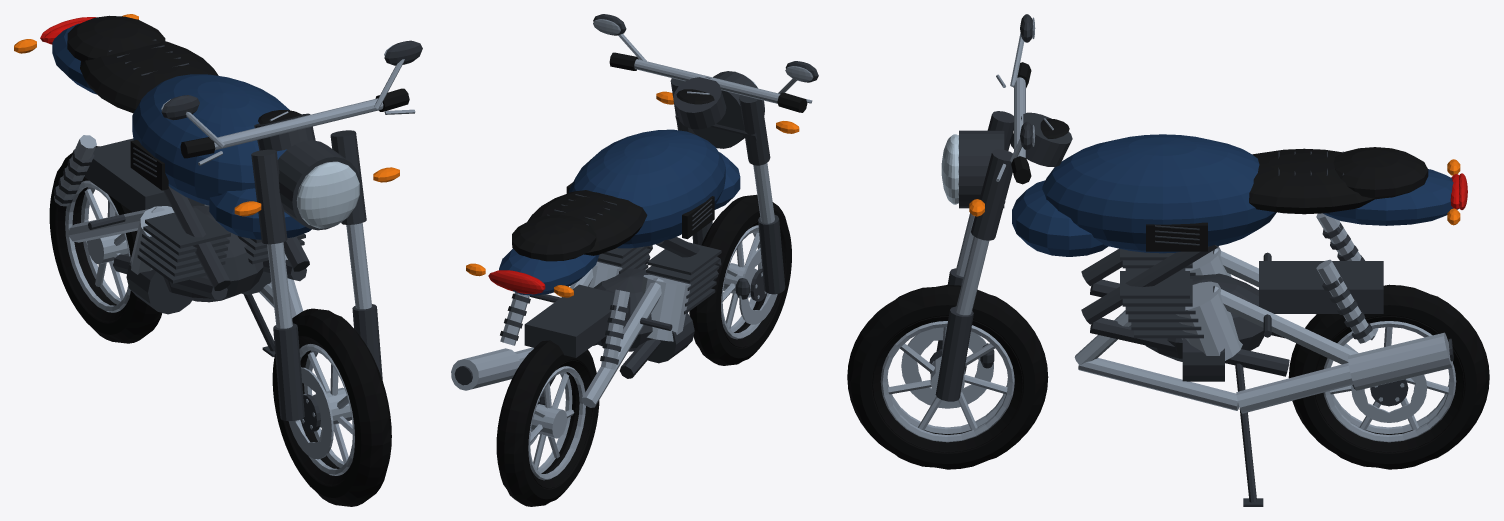
The model's file is AarisRoadBike.obj.
The picture shows the model from 3 angles, left to right: view 1: azimuth 30°, elevation 25°; view 2: azimuth 150°, elevation 25°; view 3: azimuth 270°, elevation 25°; orthographic projection. The views are drawn at different scales.
Parts seen in each view (by area): view 1: AarisRoadBike; view 2: AarisRoadBike; view 3: AarisRoadBike.
Boxes of the visible parts, x1,y1,x2,y2 form: AarisRoadBike: [14, 14, 422, 506]; AarisRoadBike: [451, 14, 818, 506]; AarisRoadBike: [847, 14, 1489, 506].
Bounding box in the file's own units: 1.06 × 1.55 × 2.27.
